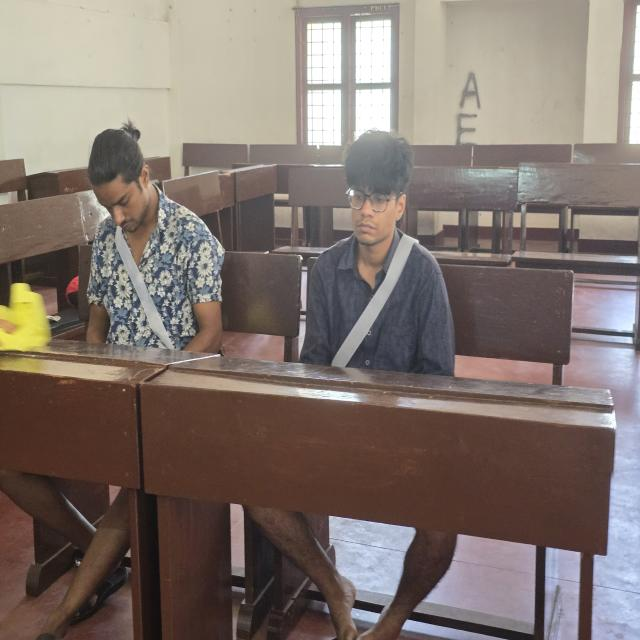seatbelt: (85, 221, 218, 349), (313, 242, 433, 370)
